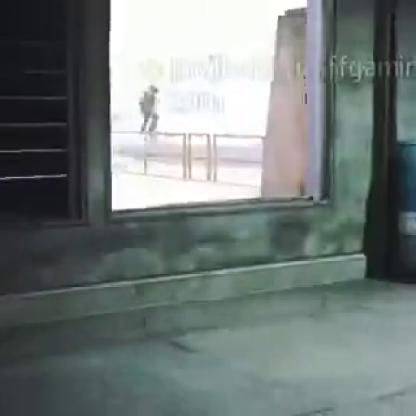enemy: (138, 83, 164, 138)
